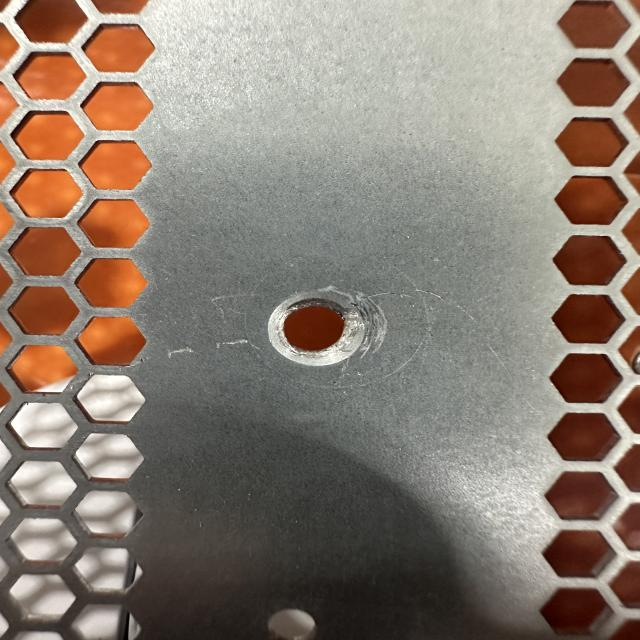Missing screw: (258, 277, 389, 379)
